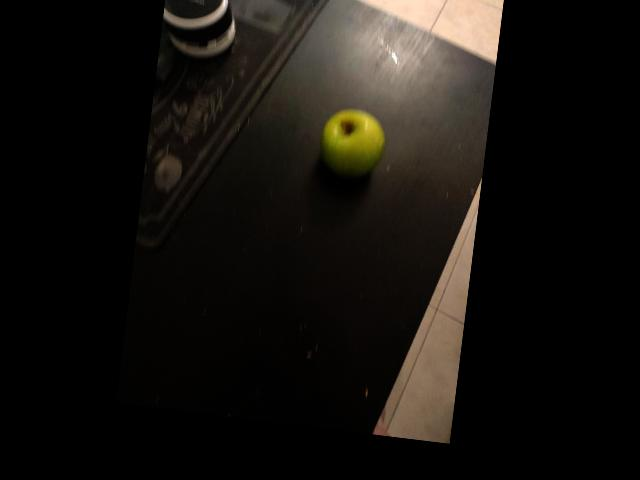apple: (270, 67, 359, 148)
